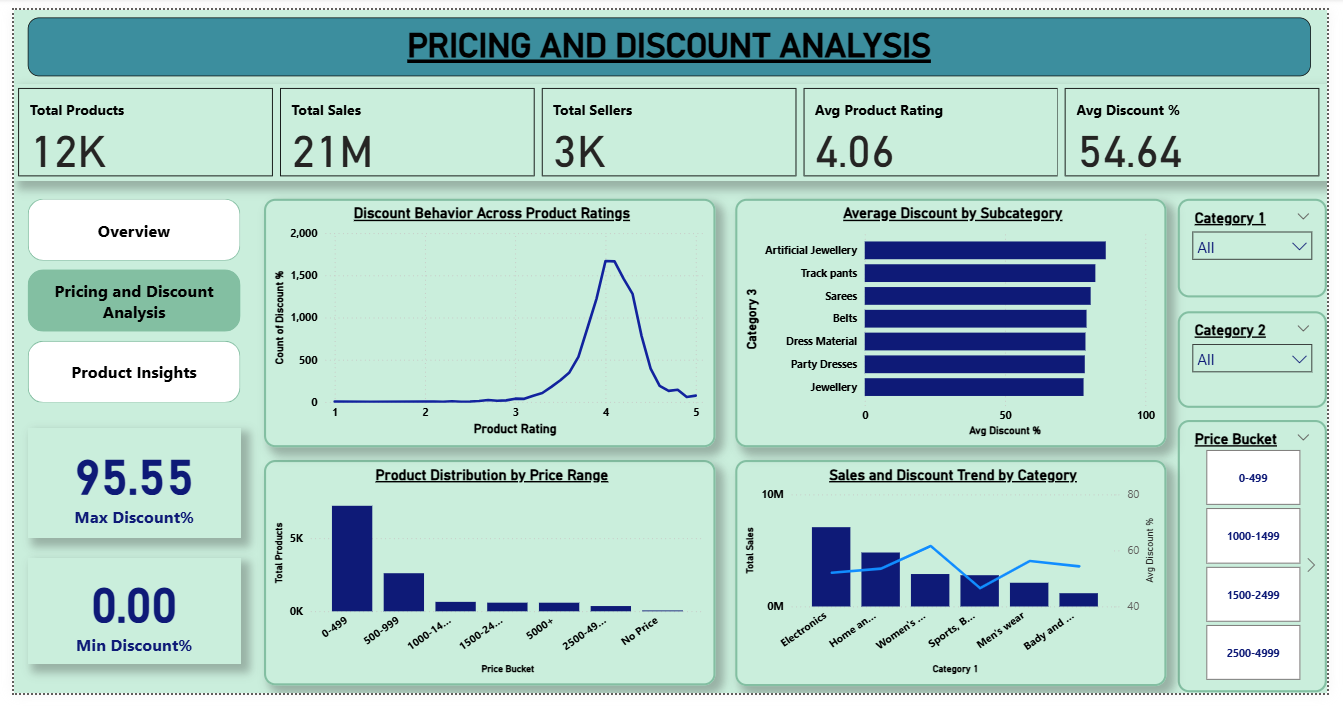

What the dashboard file says about the page in this screenshot:
{"tool":"powerbi","page":{"name":"Pricing and Discount Analysis","canvas":[1500,780],"ordinal":1},"visuals":[{"type":"clusteredColumnChart","title":"Product Distribution by Price Range","fields":{"Category":["dataset.Price Bucket"],"Y":["Measure Table.Total Products"]},"box":[285,513.8,516.2,257.5],"z":0},{"type":"textbox","box":[16.2,8.8,1466.2,67.5],"z":1000},{"type":"barChart","title":"Average Discount by Subcategory","fields":{"Y":["Measure Table.Avg Discount %"],"Category":["dataset.Category 3"]},"box":[823.8,215,492.5,283.8],"z":2000},{"type":"lineChart","title":"Discount Behavior Across Product Ratings","fields":{"Y":["CountNonNull(dataset.Discount %)"],"Category":["dataset.Product Rating"]},"box":[285,215,516.2,283.8],"z":3000},{"type":"card","fields":{"Values":["Measure Table.Max Discount%"]},"box":[15,477.5,243.8,126.2],"z":4000},{"type":"card","fields":{"Values":["Measure Table.Min Discount%"]},"box":[16.2,625,243.8,121.2],"z":5000},{"type":"slicer","fields":{"Values":["dataset.Price Bucket"]},"box":[1330,468.8,170,311.2],"z":6000},{"type":"cardVisual","fields":{"Data":["Measure Table.Total Products","Measure Table.Total Sales","Measure Table.Total Sellers","Measure Table.Avg Product Rating","Measure Table.Avg Discount %"]},"box":[0,84.5,1500.5,111.3],"z":7000},{"type":"slicer","fields":{"Values":["dataset.Category 2"]},"box":[1330,343.8,170,110],"z":8000},{"type":"slicer","fields":{"Values":["dataset.Category 1"]},"box":[1330,215,170,112.5],"z":9000},{"type":"pageNavigator","box":[15.5,215.6,243.7,233.9],"z":10000},{"type":"lineClusteredColumnComboChart","title":"Sales and Discount Trend by Category","fields":{"Category":["dataset.Category 1"],"Y":["Measure Table.Total Sales"],"Y2":["Measure Table.Avg Discount %"]},"box":[824,514,493,258],"z":11000}]}

Visuals, with their boxes in screenshot pixels (x1, y1, x2, y2), scaled from the page's 1500x780 canvas onto the 1343x706 screenshot:
"Product Distribution by Price Range" clusteredColumnChart: Rect(255, 465, 717, 698)
textbox: Rect(15, 8, 1327, 69)
"Average Discount by Subcategory" barChart: Rect(738, 195, 1179, 451)
"Discount Behavior Across Product Ratings" lineChart: Rect(255, 195, 717, 451)
card - Measure Table.Max Discount%: Rect(13, 432, 232, 546)
card - Measure Table.Min Discount%: Rect(15, 566, 233, 675)
slicer - dataset.Price Bucket: Rect(1191, 424, 1342, 705)
cardVisual - Measure Table.Total Products x Measure Table.Total Sales: Rect(0, 76, 1342, 177)
slicer - dataset.Category 2: Rect(1191, 311, 1342, 411)
slicer - dataset.Category 1: Rect(1191, 195, 1342, 296)
pageNavigator: Rect(14, 195, 232, 407)
"Sales and Discount Trend by Category" lineClusteredColumnComboChart: Rect(738, 465, 1179, 699)
